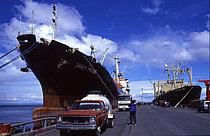Ship: (148, 60, 204, 111)
